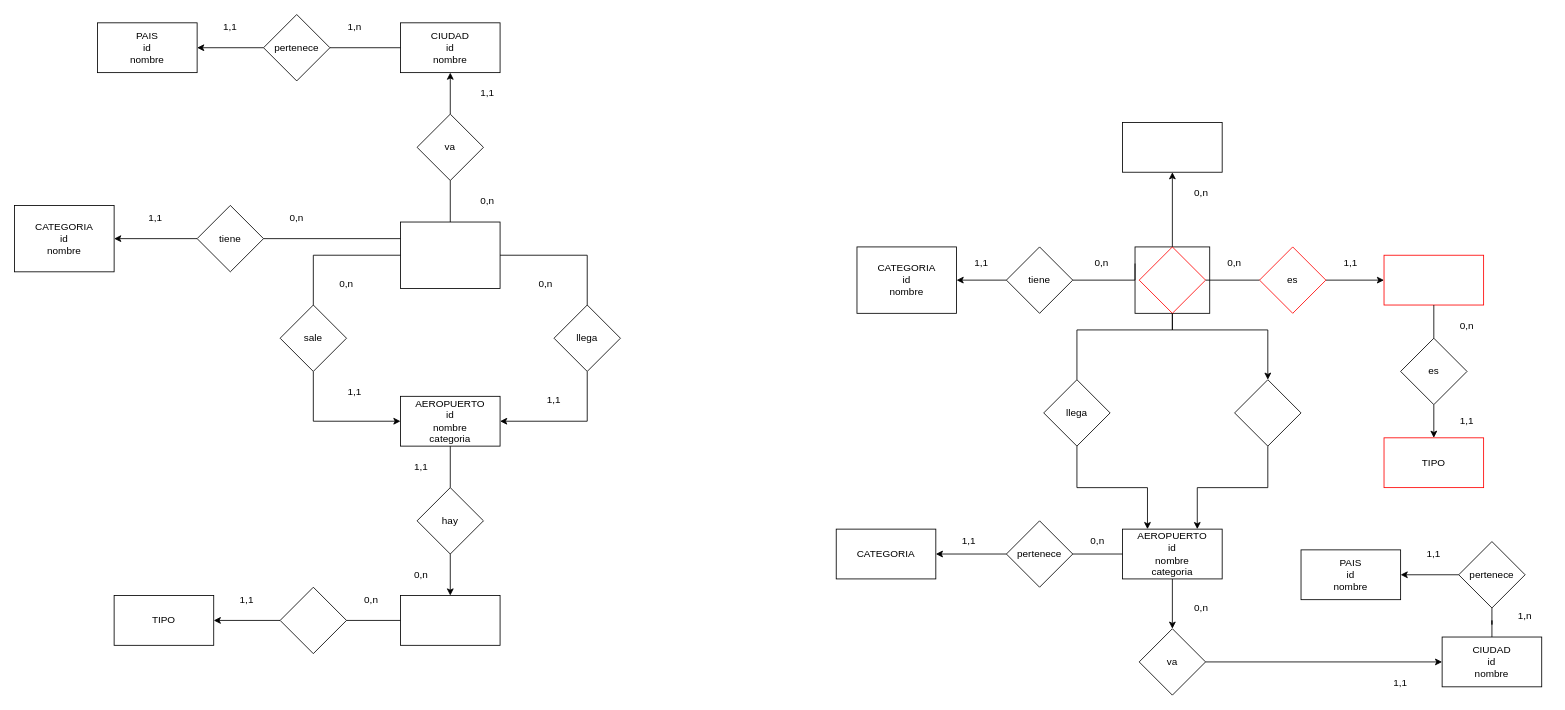
This 1565x710 diagram has some shape labels left out. Each missing label, with the centre of its shape:
"AVION" goes at point 1433,279.
"AVION id" goes at point 450,620.
"es de" goes at point 313,620.
"FECHA" goes at point 1172,147.
"origen" goes at point 1267,412.
"VUELO id plazas_ocupadas fecha" goes at point 1172,279.
"VUELO id tipo plazas_ocupadas" goes at point 450,254.
